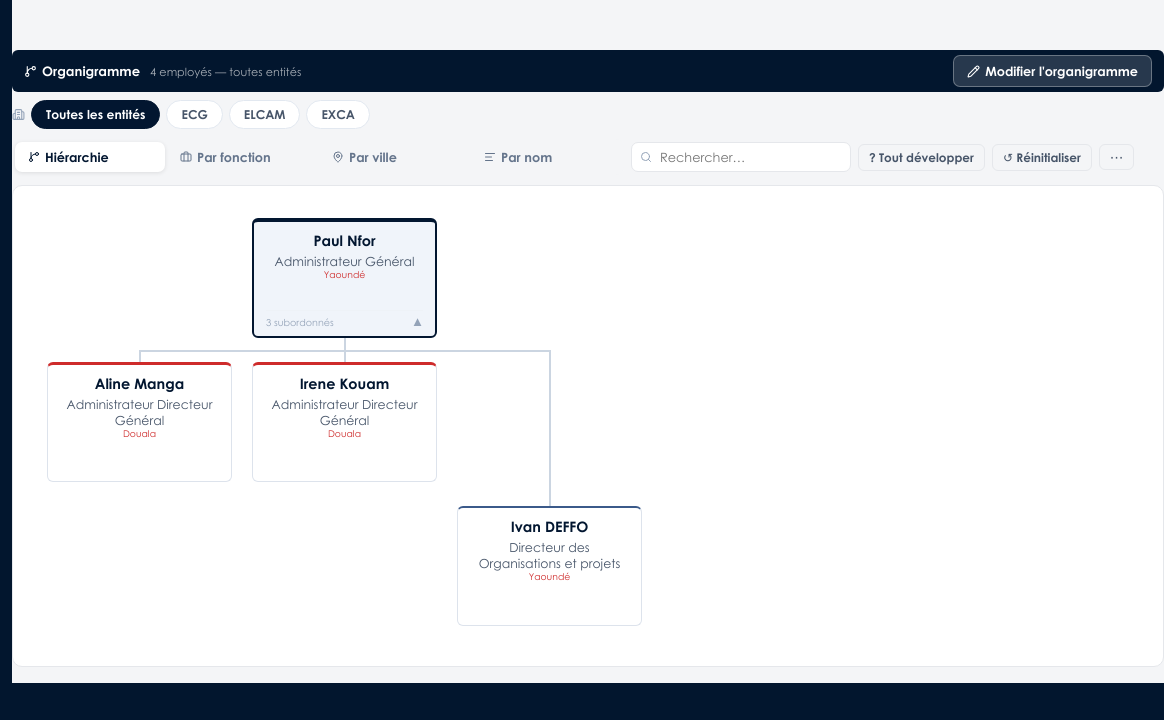
OrgChart — PCA injection filiales › filtre ELCAM : Paul Nfor apparaît avec le titre PCA
Click the button "ELCAM" at {"x": 265, "y": 114}, box [229, 100, 300, 129]
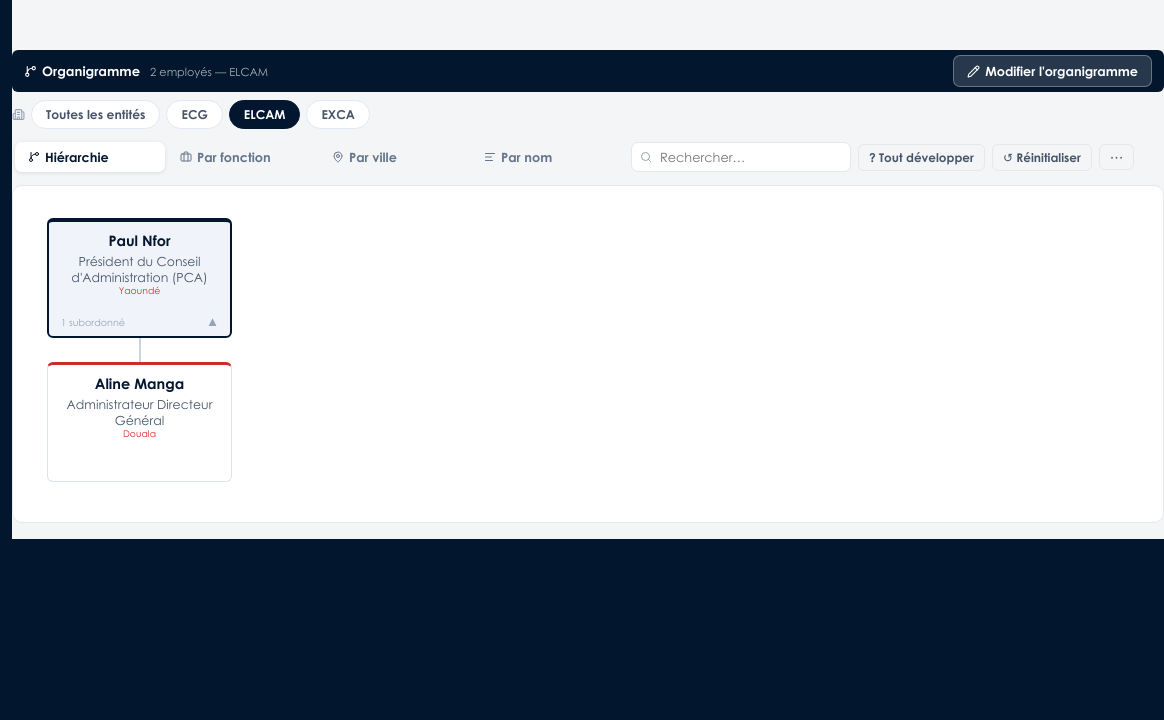
Check: the text "Paul Nfor" is shown, box [108, 232, 171, 249]
Check: the text "Président du Conseil d'Administration (PCA)" is shown, box [61, 253, 218, 285]
